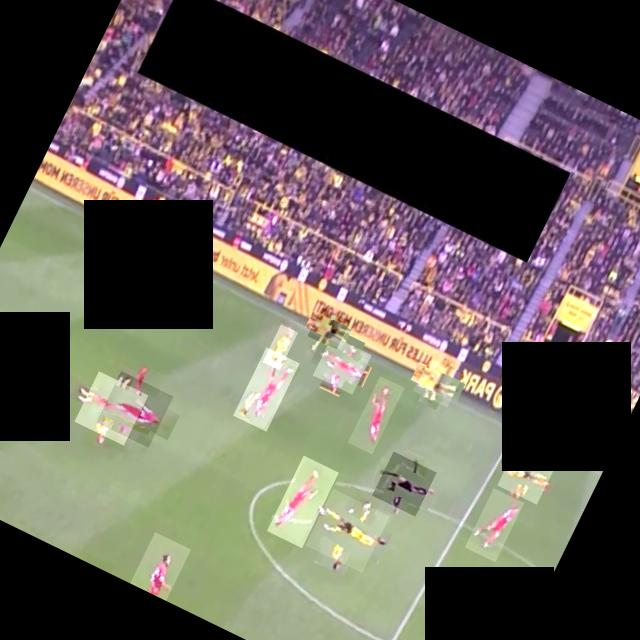referee: (371, 452, 436, 516)
soccer-player: (305, 488, 389, 572), (266, 456, 338, 548), (96, 370, 172, 448), (232, 347, 299, 432), (74, 371, 148, 445), (347, 376, 404, 454), (464, 488, 524, 562), (130, 532, 190, 600), (312, 336, 371, 395), (496, 446, 556, 504), (412, 358, 462, 408), (306, 307, 349, 350), (262, 324, 297, 370)
